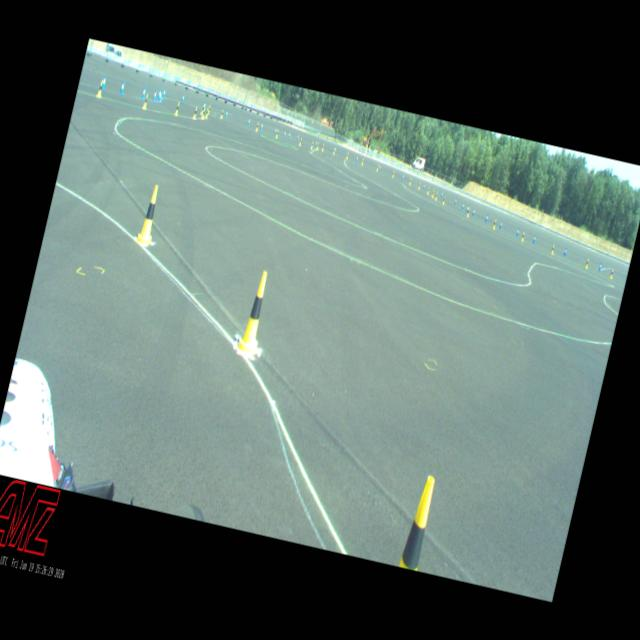blue_cone: (140, 84, 148, 100), (101, 74, 108, 90), (119, 80, 126, 94), (152, 88, 158, 100), (158, 90, 163, 102), (515, 226, 520, 237), (259, 121, 264, 131), (562, 247, 567, 257), (156, 88, 160, 100), (202, 100, 206, 112), (531, 234, 536, 243), (162, 88, 166, 99), (598, 261, 602, 271), (498, 220, 502, 230), (247, 117, 251, 126), (282, 129, 286, 138), (224, 109, 228, 118), (274, 126, 278, 135), (472, 207, 476, 216), (484, 214, 488, 223), (464, 204, 468, 213), (452, 198, 457, 205), (461, 202, 465, 210), (181, 94, 185, 102), (314, 139, 318, 147), (296, 134, 300, 141), (378, 163, 382, 170), (401, 174, 404, 182), (422, 183, 425, 190), (355, 155, 358, 162), (441, 191, 444, 198), (288, 130, 290, 140)
yellow_cone: (397, 472, 439, 570), (236, 269, 276, 355), (134, 183, 164, 246), (96, 79, 104, 97), (142, 93, 150, 109), (203, 106, 210, 118), (174, 102, 180, 115), (192, 106, 198, 119), (584, 257, 590, 269), (254, 120, 260, 132), (200, 108, 206, 120), (550, 243, 556, 254), (608, 268, 614, 279), (520, 231, 525, 242), (416, 182, 421, 190), (492, 218, 496, 228), (430, 188, 434, 198), (298, 136, 302, 146), (275, 128, 279, 138), (207, 104, 211, 114), (310, 140, 314, 149), (200, 105, 204, 114), (408, 177, 412, 185), (434, 192, 438, 200), (442, 196, 446, 204), (466, 208, 470, 216), (426, 187, 430, 194), (345, 152, 349, 159), (332, 147, 336, 154), (220, 109, 223, 118), (391, 170, 394, 178), (376, 164, 379, 172), (361, 158, 364, 165), (322, 142, 324, 150), (316, 142, 318, 150)
